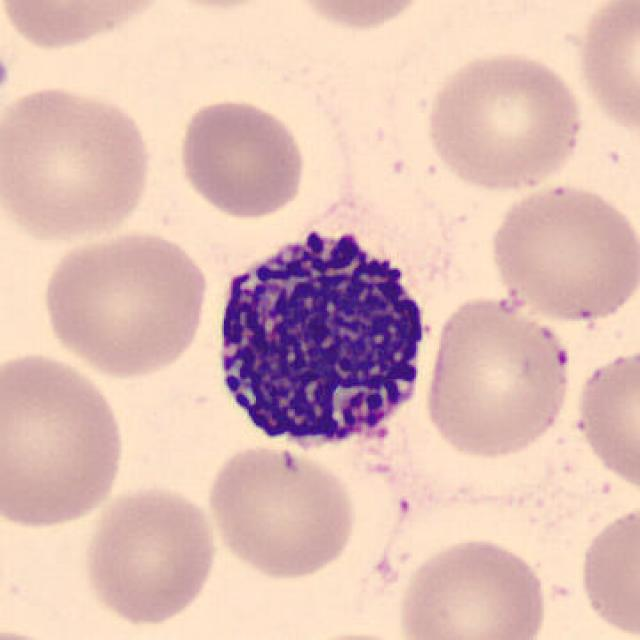Basophil: (203, 215, 441, 464)
Platelets: (0, 49, 12, 105)
RBC: (421, 291, 576, 464), (38, 228, 212, 379), (0, 79, 158, 245), (419, 46, 586, 194), (0, 346, 130, 532), (201, 441, 359, 582), (484, 180, 638, 324), (78, 481, 220, 628), (172, 95, 310, 222), (395, 532, 551, 640), (570, 343, 640, 497), (570, 0, 640, 139), (574, 499, 638, 640), (0, 0, 171, 51), (284, 0, 435, 33), (286, 627, 424, 640), (146, 0, 290, 12), (0, 624, 80, 640)
